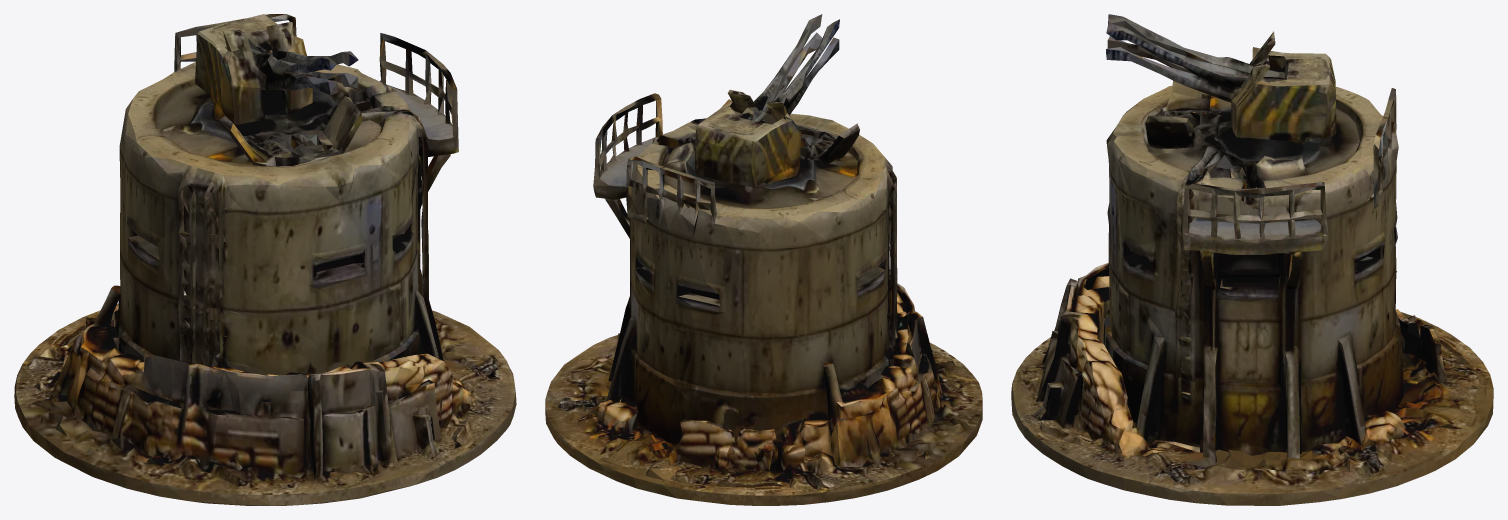
The model's file is outpost-silo.glb.
3 renders of one model, left to right at view 1: azimuth 30°, elevation 25°; view 2: azimuth 150°, elevation 25°; view 3: azimuth 270°, elevation 25°, orthographic. The views are drawn at different scales.
Visible parts, largest first — view 1: tmpc09lof0w.ply; view 2: tmpc09lof0w.ply; view 3: tmpc09lof0w.ply.
Part boxes in pixels (x1=…): tmpc09lof0w.ply: x1=14, y1=14, x2=516, y2=505; tmpc09lof0w.ply: x1=545, y1=14, x2=982, y2=505; tmpc09lof0w.ply: x1=1011, y1=14, x2=1493, y2=505.
Size of the model in its own units: 3.4 by 3 by 3.4.
1 material, 1 textured.
